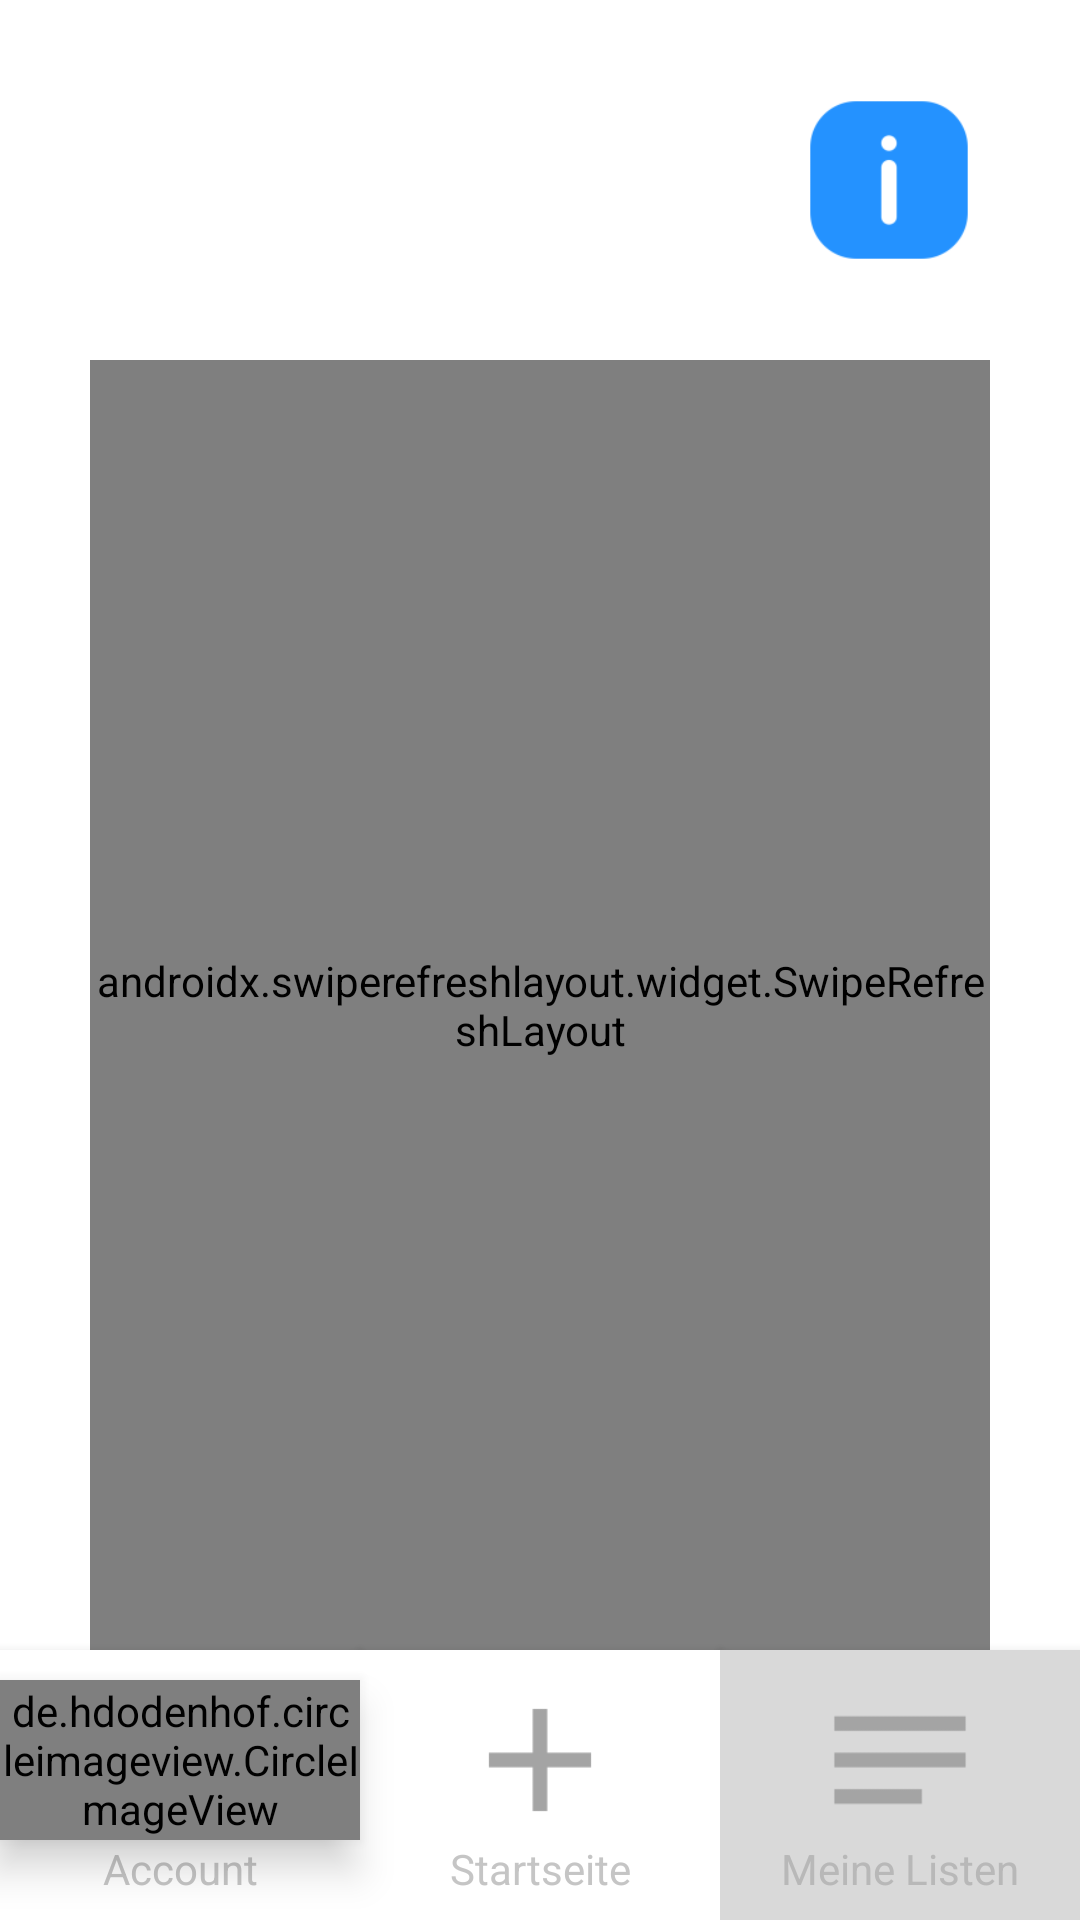

Icon bounding boxes for this 1080px×1920px phone screenshot, format (x1, y1, x2, y2):
add: (489, 1709, 591, 1811)
info: (810, 101, 968, 259)
